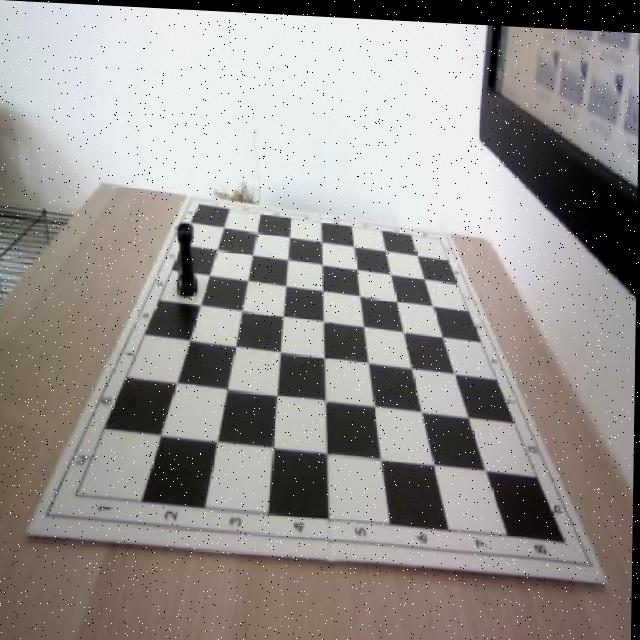black-queen: (175, 220, 201, 295)
